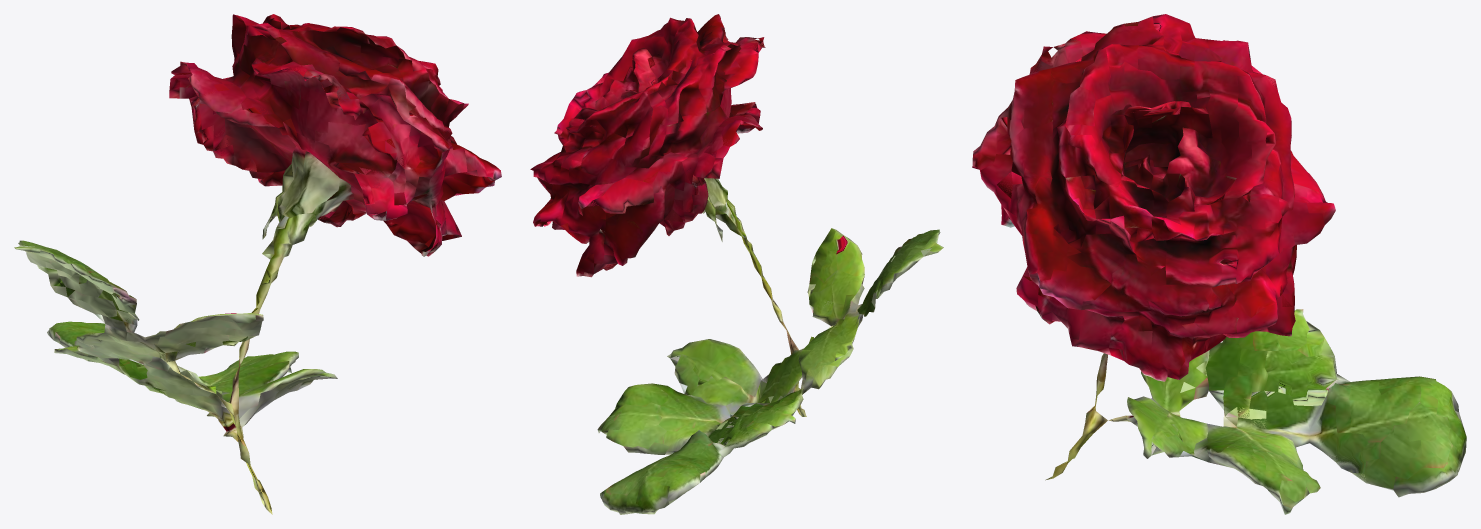
3 renders of one model, left to right at view 1: azimuth 30°, elevation 25°; view 2: azimuth 150°, elevation 25°; view 3: azimuth 270°, elevation 25°, orthographic. The views are drawn at different scales.
Visible parts, largest first — view 1: 0c214b5d; view 2: 0c214b5d; view 3: 0c214b5d.
Boxes of the visible parts, bbox=[...] form: 0c214b5d: bbox=[14, 14, 501, 514]; 0c214b5d: bbox=[530, 14, 943, 514]; 0c214b5d: bbox=[972, 14, 1466, 514].
Size of the model in its own units: 0.0833 by 0.08 by 0.0732.
Materials: 1 (1 with a texture image).
